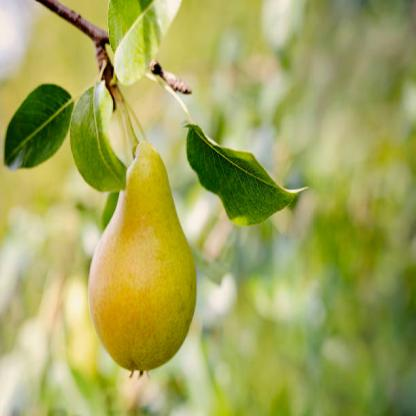Paer: (88, 123, 200, 386)
